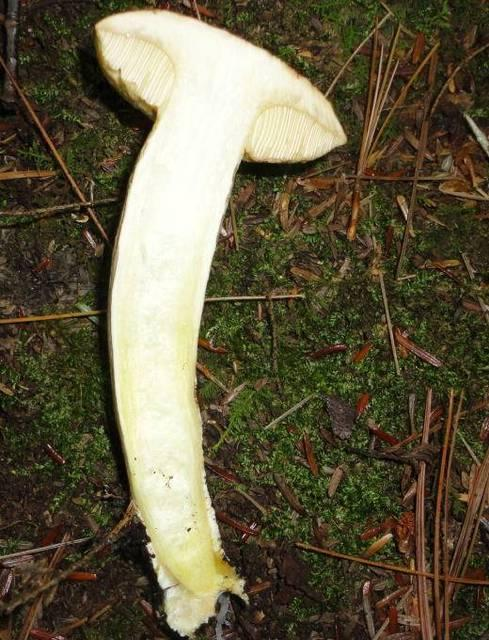Non-edible Mushroom: (91, 7, 348, 636)
